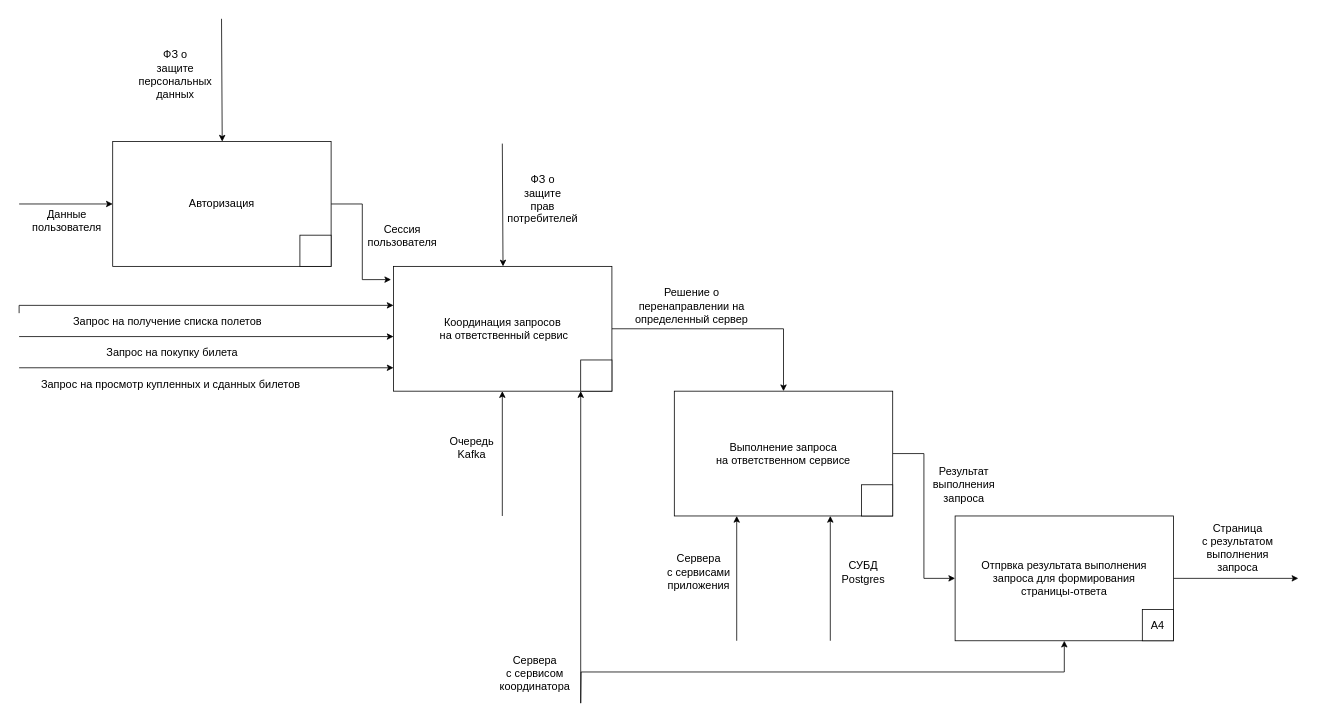
Image size: 1318x724. Some labels were removed from this diagram. Here are the shapes that lost their labels. From the top down, the centre of each, then its label:
At pixel 315 250: "A1".
At pixel 596 375: "A2".
At pixel 877 500: "A3".
